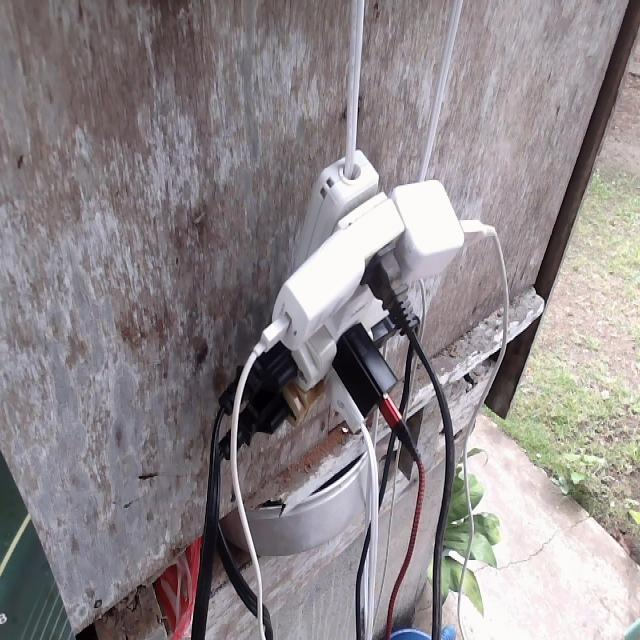-: (245, 148, 466, 432)
